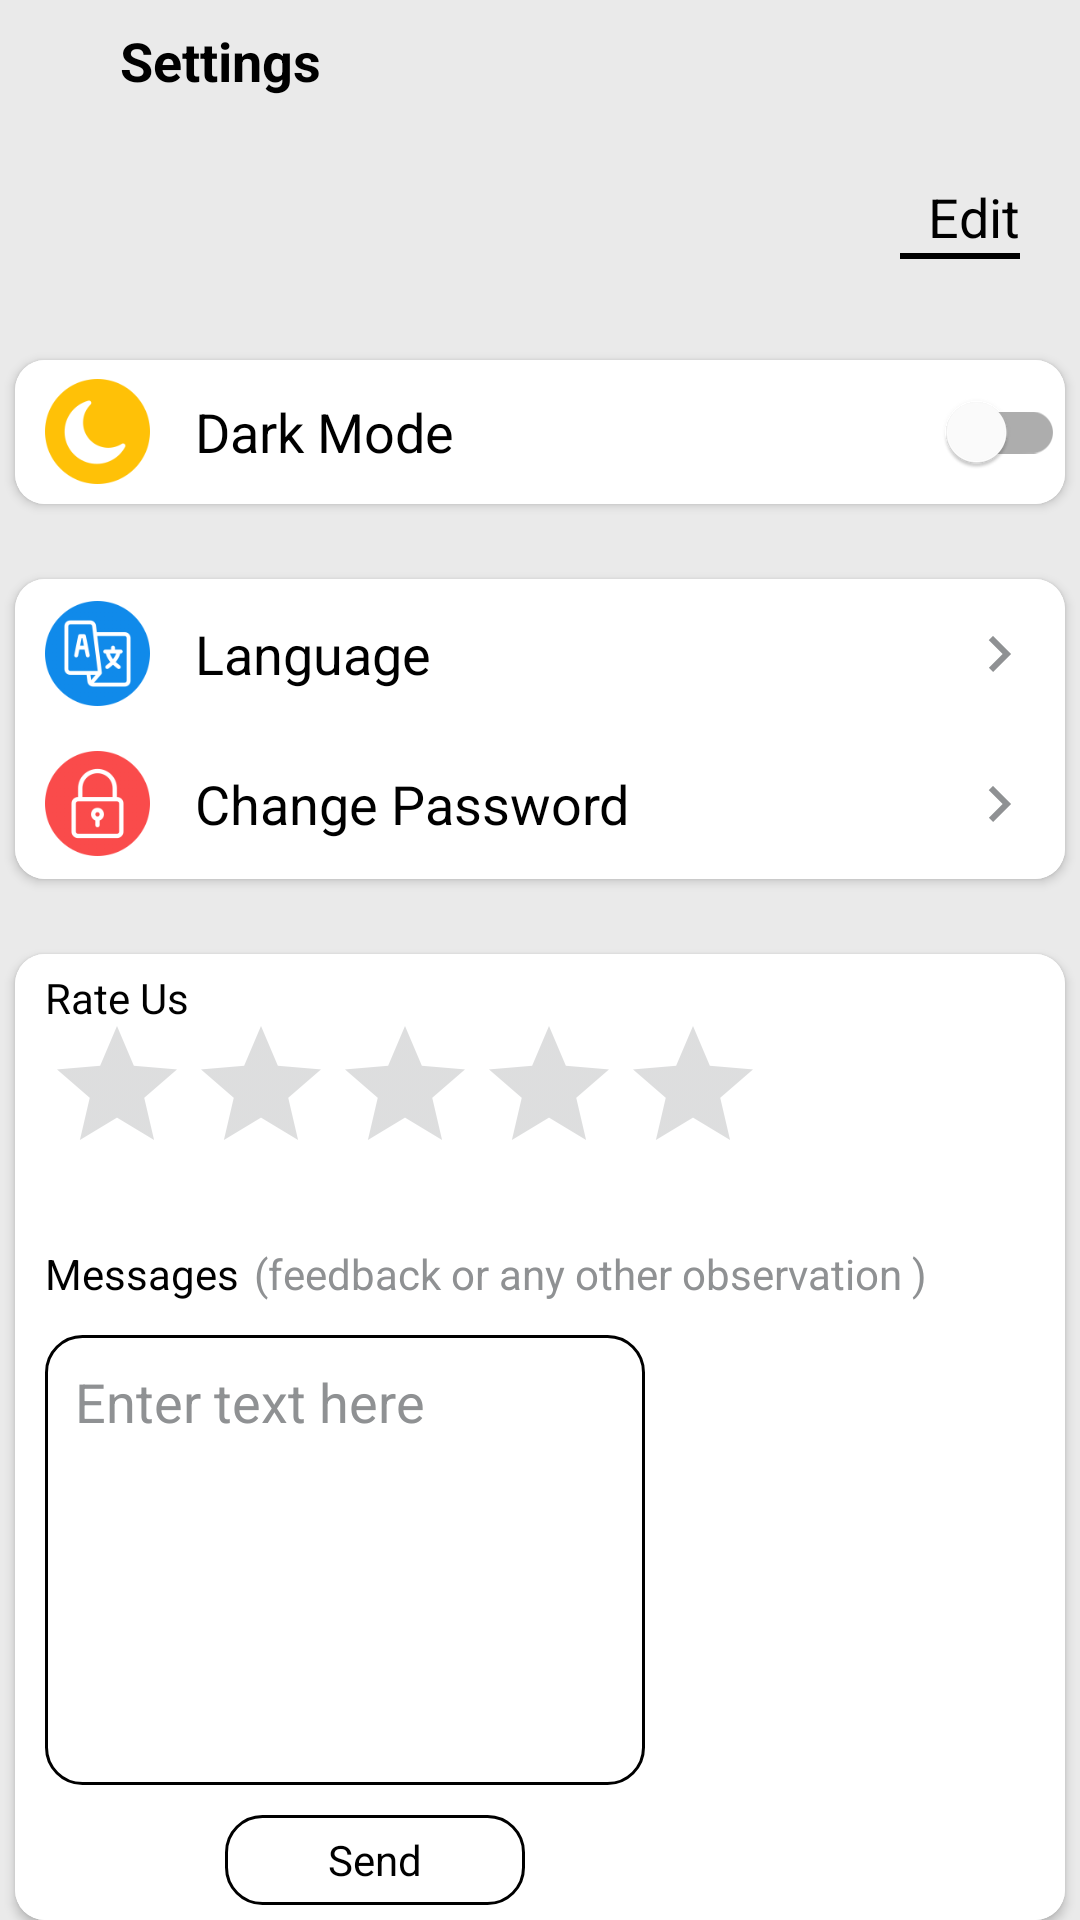

Named icons in this screenshot (1080px×1920px) and their centers, point (x, y):
arrow right: point (1000, 654), point (1000, 804)
